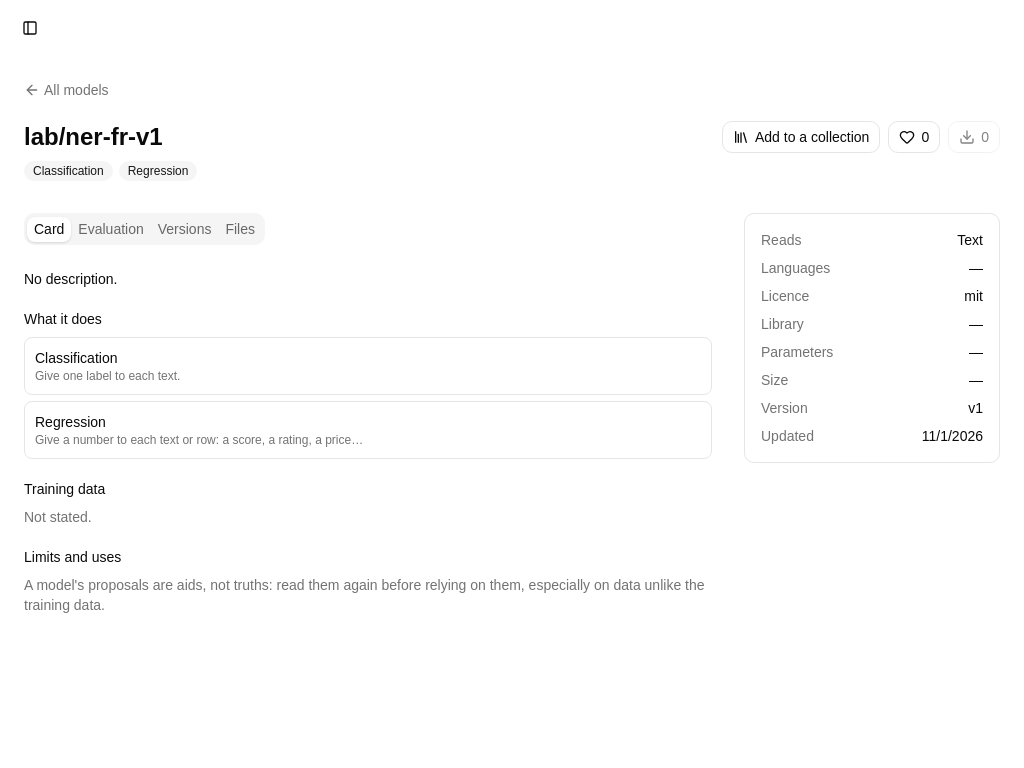
Test: shows a reader only the metrics that were chosen, and says how many were left out
Click the tab "Evaluation": (111, 229) [71,216,151,242]
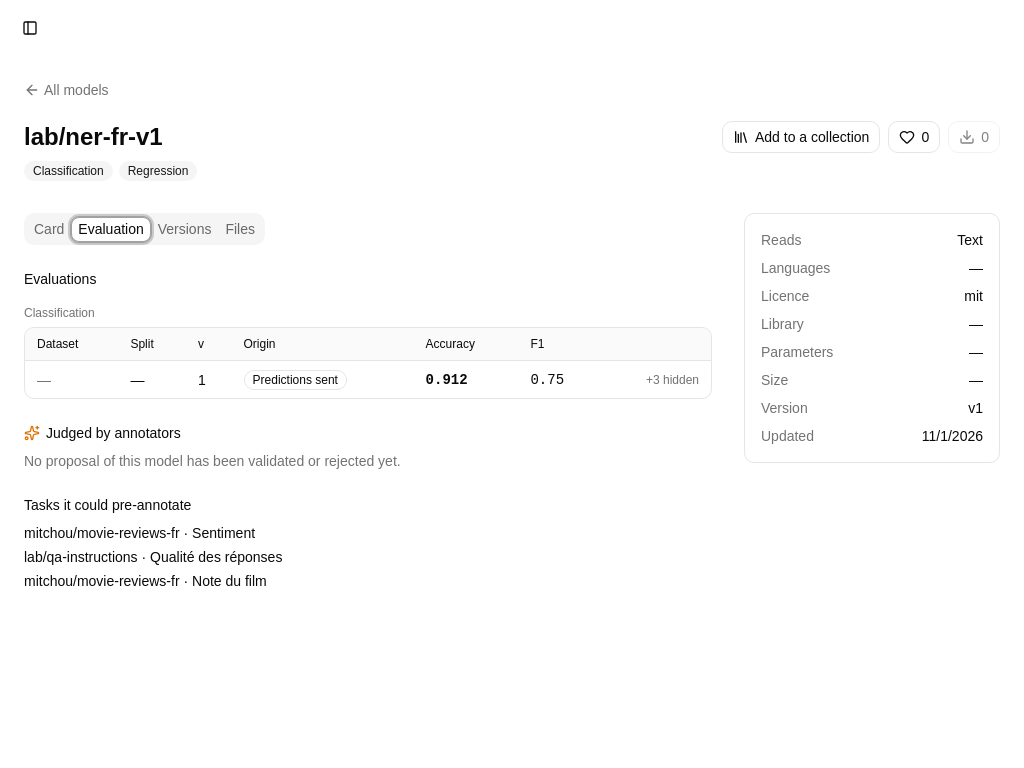
Click the text "0.912": (466, 379) [414,360,518,398]
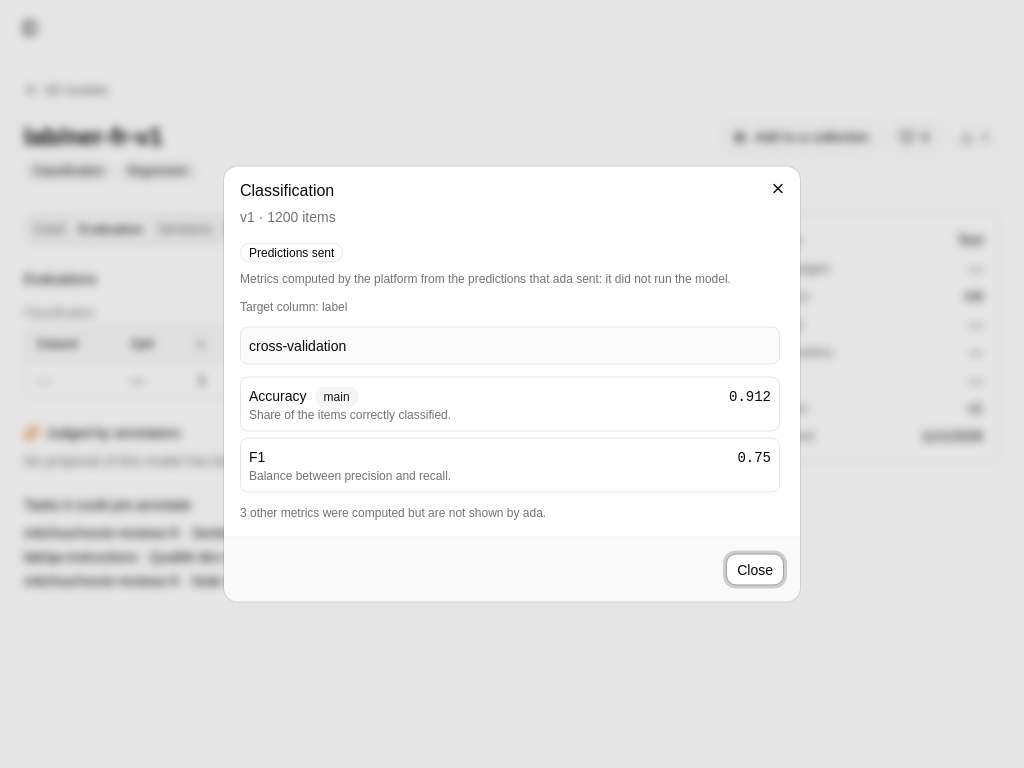
Expected: the text "Accuracy" is shown, [249,386,307,406]
Expected: the text "3 other metrics were computed but are not shown by ada." is shown, [240,506,546,520]
Expected: the text "cross-validation" is shown, [240,326,780,364]
